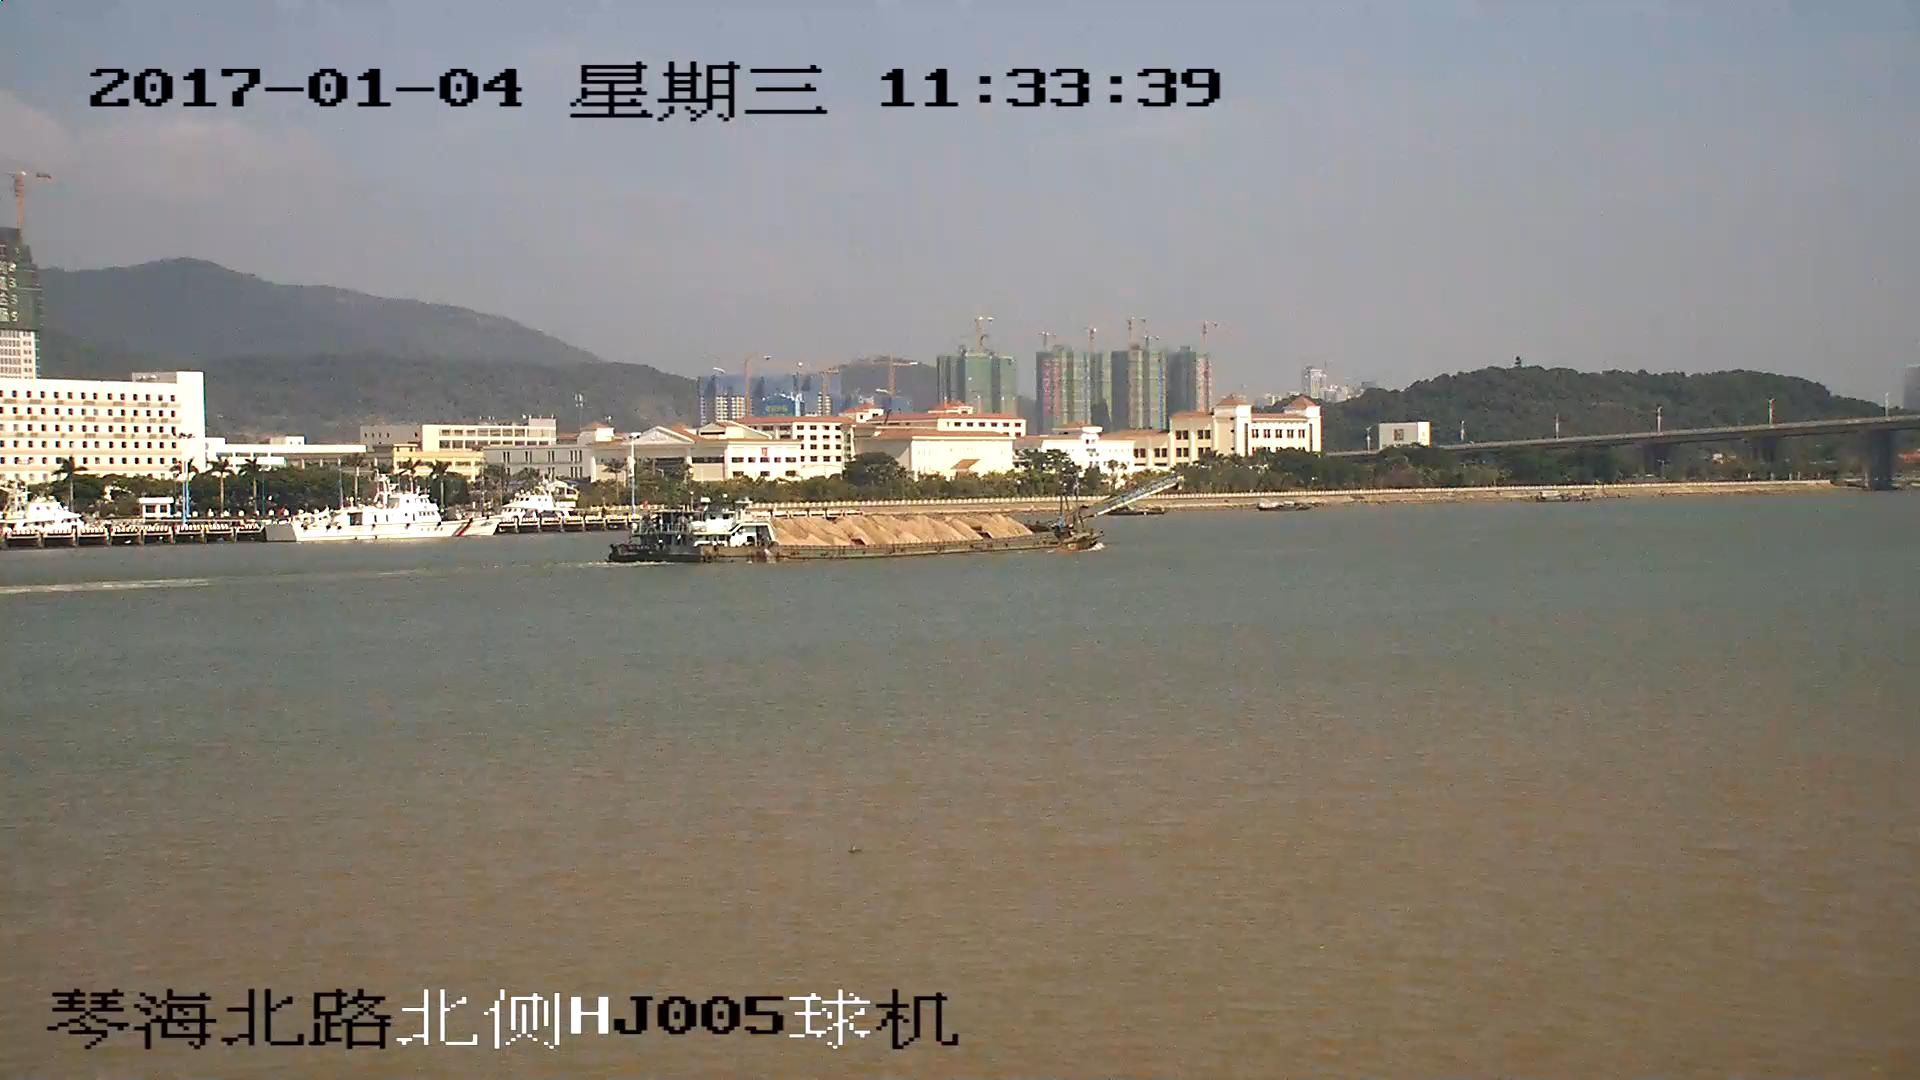ore carrier: (608, 474, 1180, 566)
